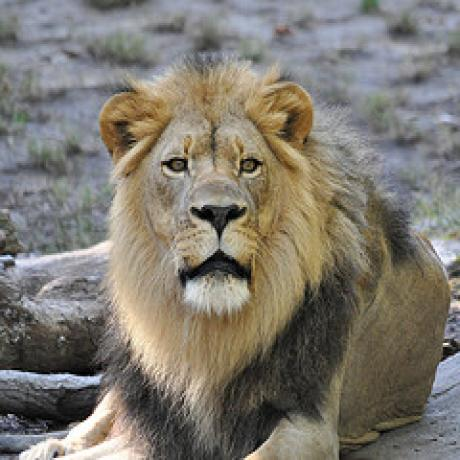Lion: (45, 61, 453, 460)
